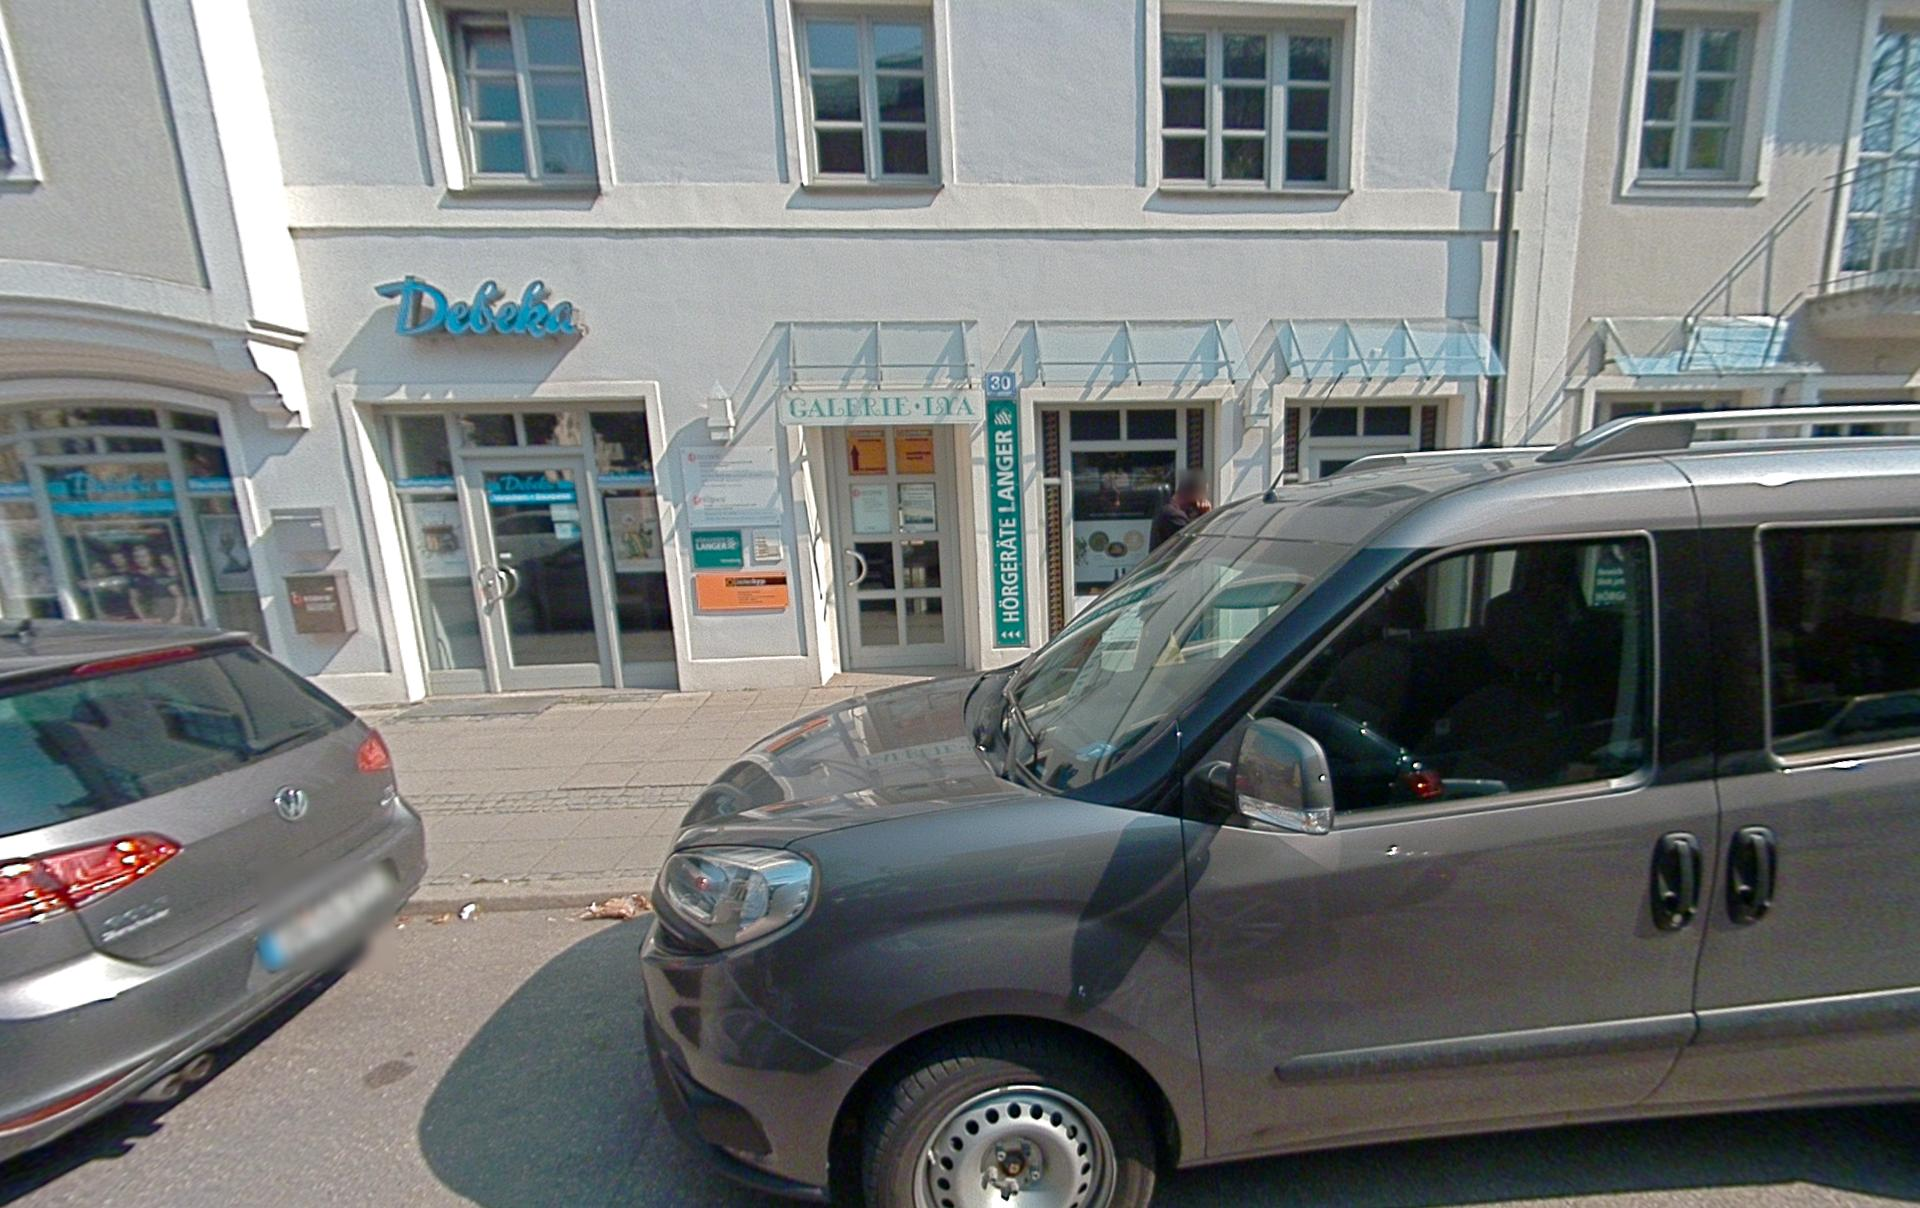car: (643, 420, 1919, 1205), (0, 620, 425, 1158)
